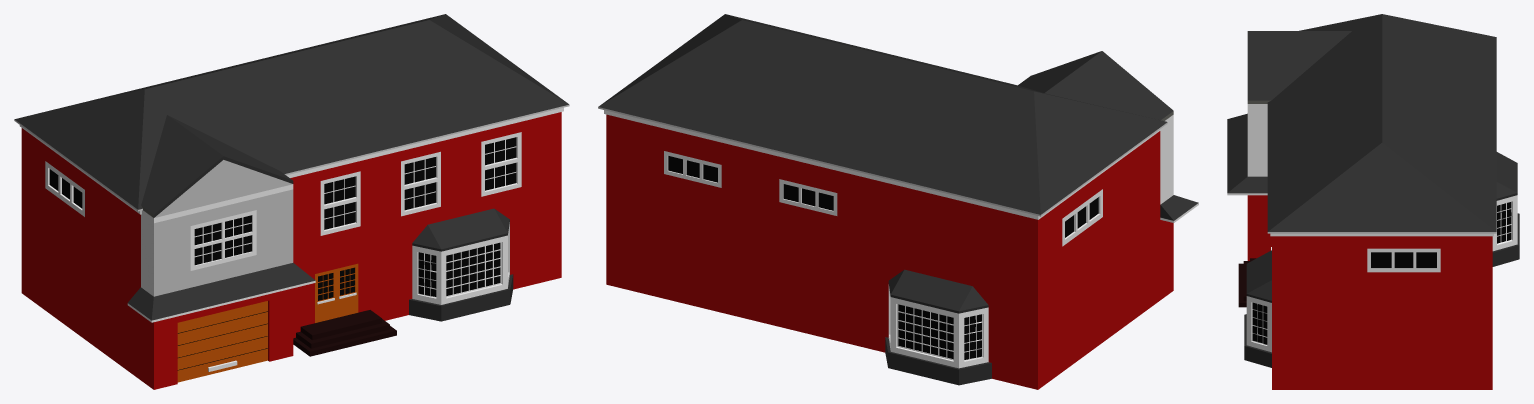
The model's file is House-17.fbx.
3 views of the same model, side by side, from view 1: azimuth 30°, elevation 25°; view 2: azimuth 150°, elevation 25°; view 3: azimuth 270°, elevation 25° (orthographic). The views are drawn at different scales.
Visible parts, largest first — view 1: Cube; view 2: Cube; view 3: Cube.
Part boxes in pixels (left/top/right/bottom): Cube: left=14, top=14, right=569, bottom=389; Cube: left=598, top=14, right=1198, bottom=389; Cube: left=1227, top=14, right=1519, bottom=389.
Size of what is drawn, in the model's own units: 18.75 by 9.45 by 11.68.
